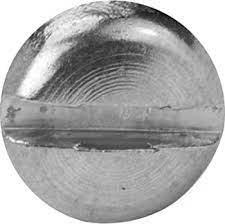screw: (1, 1, 225, 221)
